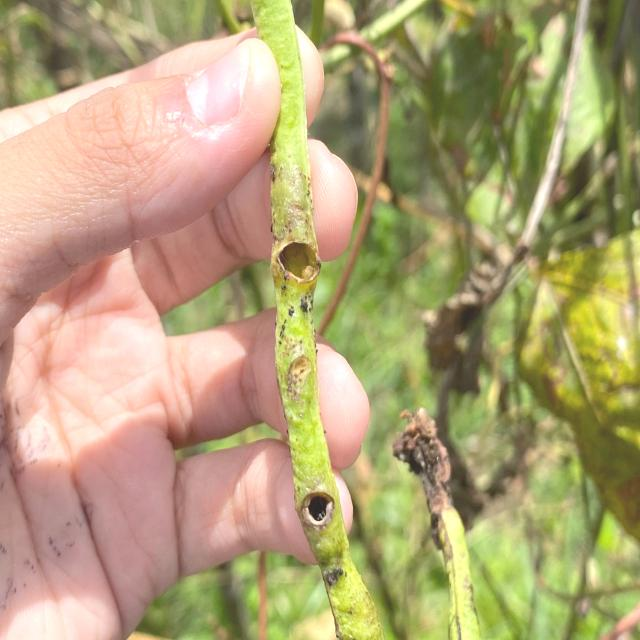sitaw-aphid-moderate: (253, 0, 385, 640), (393, 408, 480, 640)
